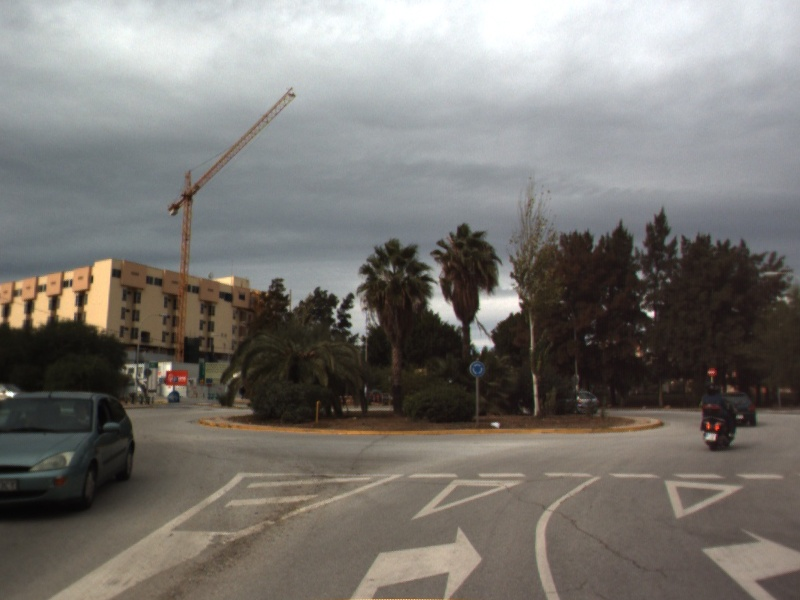RIGHT: (346, 521, 486, 600), (698, 522, 800, 600)
